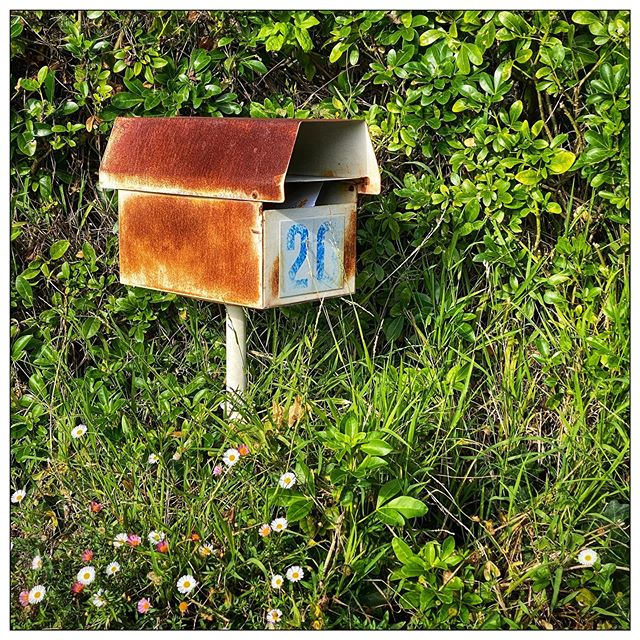mail box: (95, 105, 397, 324)
vegetation: (11, 15, 628, 632)
